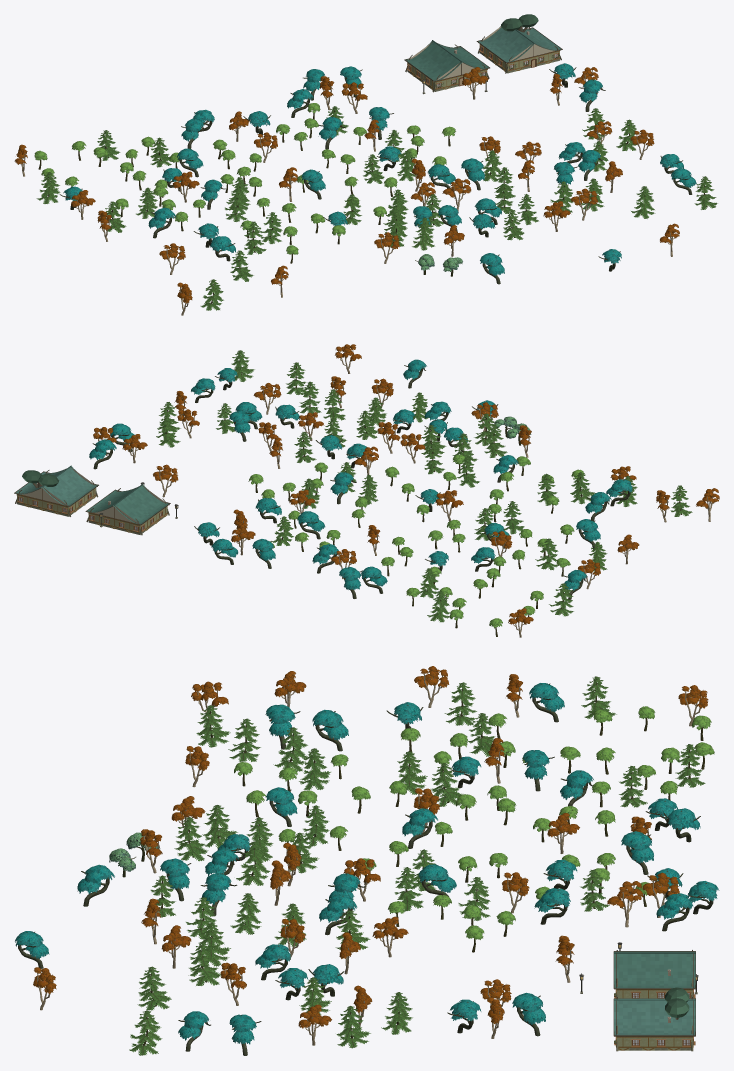
The model's file is overworld-5-5.gltf.
3 views of the same model, one above another, from view 1: azimuth 30°, elevation 25°; view 2: azimuth 150°, elevation 25°; view 3: azimuth 270°, elevation 25° (orthographic). The views are drawn at different scales.
Parts seen in each view (by area): view 1: afc31f2ca2bfdd17073ed64f50ee1f8363691658784143269aa5cccf64da, 1f2fd1d158dcb5fe0d63f074b2ecbe855192276e333df547b81bf9923904; view 2: afc31f2ca2bfdd17073ed64f50ee1f8363691658784143269aa5cccf64da, 1f2fd1d158dcb5fe0d63f074b2ecbe855192276e333df547b81bf9923904; view 3: 7e2e11a73c6c1f6b77c7c18c44a87655900818e94c168e7a92bb0a48cc87 (×26), 883bf022a4c95c0b0a24ce14e7511dc7b18eb62759134961097aa30193af (×24), 133dae8ce562dbc4cbf0d0d2cb7dc4cb2baafed83b6c58ebd4446a365708 (×6), afc31f2ca2bfdd17073ed64f50ee1f8363691658784143269aa5cccf64da, 1f2fd1d158dcb5fe0d63f074b2ecbe855192276e333df547b81bf9923904, cd3663c8db84b23859c612775e384f1fa2b8931cfacd3f0d7d646244a0c0.
Part boxes in pixels (<box>): afc31f2ca2bfdd17073ed64f50ee1f8363691658784143269aa5cccf64da: <box>404,40,489,92</box>; 1f2fd1d158dcb5fe0d63f074b2ecbe855192276e333df547b81bf9923904: <box>476,26,562,73</box>; afc31f2ca2bfdd17073ed64f50ee1f8363691658784143269aa5cccf64da: <box>85,484,170,535</box>; 1f2fd1d158dcb5fe0d63f074b2ecbe855192276e333df547b81bf9923904: <box>14,465,98,516</box>; 7e2e11a73c6c1f6b77c7c18c44a87655900818e94c168e7a92bb0a48cc87 (×26): <box>129,676,705,1055</box>; 883bf022a4c95c0b0a24ce14e7511dc7b18eb62759134961097aa30193af (×24): <box>15,683,719,1055</box>; 133dae8ce562dbc4cbf0d0d2cb7dc4cb2baafed83b6c58ebd4446a365708 (×6): <box>191,666,679,957</box>; afc31f2ca2bfdd17073ed64f50ee1f8363691658784143269aa5cccf64da: <box>613,950,695,998</box>; 1f2fd1d158dcb5fe0d63f074b2ecbe855192276e333df547b81bf9923904: <box>613,997,695,1051</box>; cd3663c8db84b23859c612775e384f1fa2b8931cfacd3f0d7d646244a0c0: <box>665,987,689,1019</box>.
Size of the model in its own units: 132 by 11.89 by 111.
Materials: 60 (46 with a texture image).
